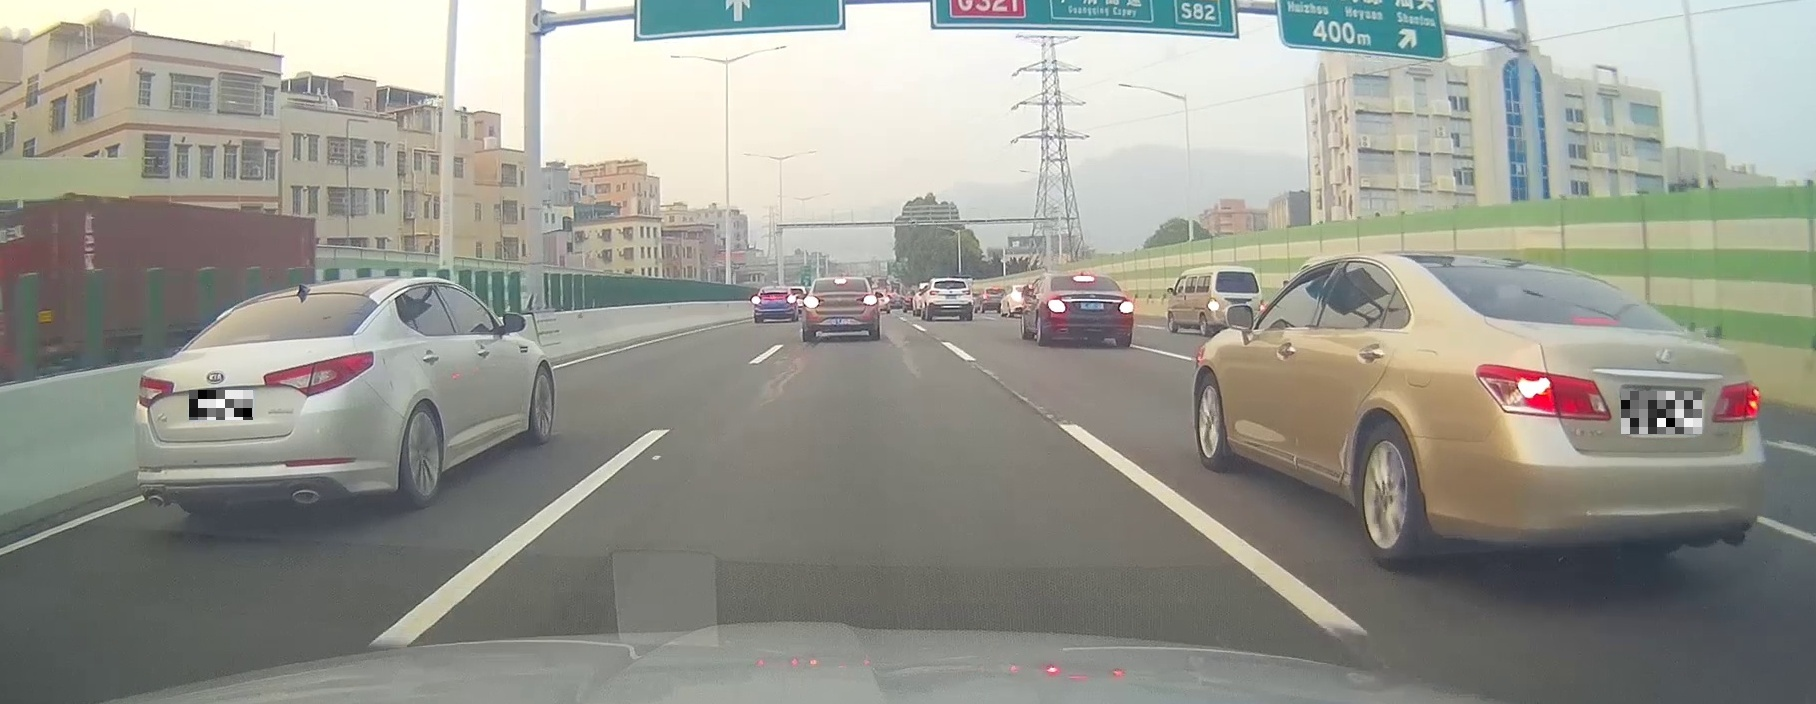L_light: (1475, 364, 1612, 421), (137, 373, 174, 408), (1047, 298, 1067, 313), (804, 295, 820, 308)
R_light: (262, 351, 375, 397), (1711, 379, 1763, 421), (1116, 300, 1134, 314), (861, 294, 878, 306)
T_light: (1570, 314, 1620, 327), (234, 333, 271, 345), (1072, 276, 1094, 283), (833, 278, 848, 285)
day-brake: (1392, 251, 1769, 570), (1044, 273, 1134, 349), (801, 276, 879, 340)
day-no: (134, 278, 391, 516)
plate_1: (189, 390, 252, 420)
plate_2: (1621, 391, 1702, 434)
